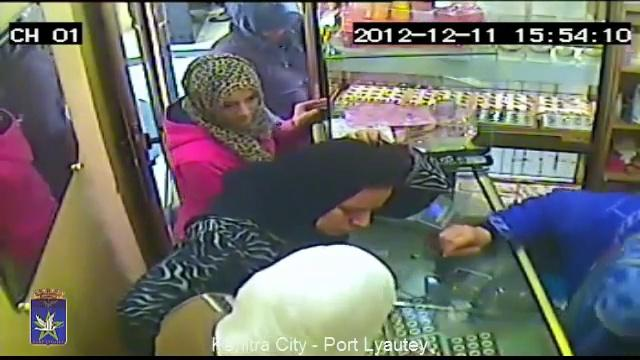Customer-Bagpack: (374, 124, 435, 194)
Regular: (475, 132, 640, 360), (165, 244, 406, 360), (179, 28, 291, 178), (257, 123, 388, 245), (224, 0, 323, 106)
